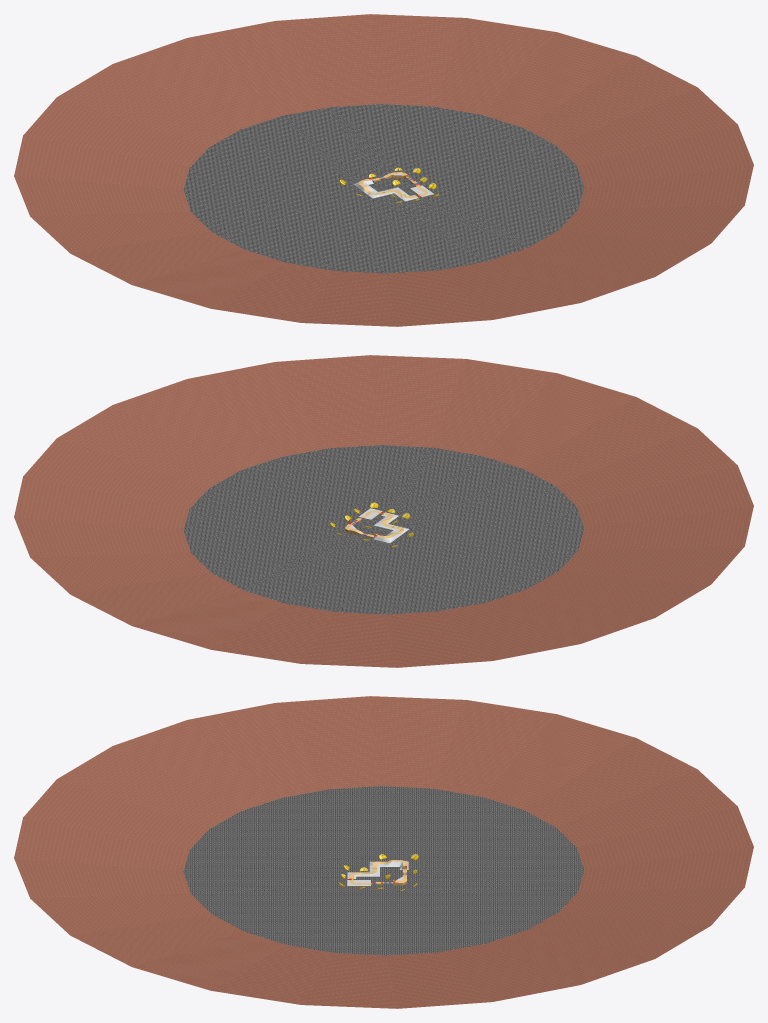
The picture shows the model from 3 angles, top to bottom: view 1: azimuth 30°, elevation 25°; view 2: azimuth 150°, elevation 25°; view 3: azimuth 270°, elevation 25°; orthographic projection.
Visible parts, largest first — view 1: Coin_Soup_Pot_SKP__Material10, Coin_Soup_Pot_SKP__Material7, Coin_Soup_Pot_SKP__Material4; view 2: Coin_Soup_Pot_SKP__Material10, Coin_Soup_Pot_SKP__Material7, Coin_Soup_Pot_SKP__Material4; view 3: Coin_Soup_Pot_SKP__Material10, Coin_Soup_Pot_SKP__Material7.
Boxes of the visible parts, x1,y1,x2,y2 form: Coin_Soup_Pot_SKP__Material10: [14, 14, 753, 326]; Coin_Soup_Pot_SKP__Material7: [183, 104, 584, 273]; Coin_Soup_Pot_SKP__Material4: [353, 173, 433, 201]; Coin_Soup_Pot_SKP__Material10: [14, 355, 753, 667]; Coin_Soup_Pot_SKP__Material7: [183, 445, 584, 614]; Coin_Soup_Pot_SKP__Material4: [349, 508, 408, 543]; Coin_Soup_Pot_SKP__Material10: [14, 696, 753, 1008]; Coin_Soup_Pot_SKP__Material7: [183, 786, 584, 955].
Size of the model in its own units: 606600 by 18869 by 606600.
10 materials, 10 textured.
